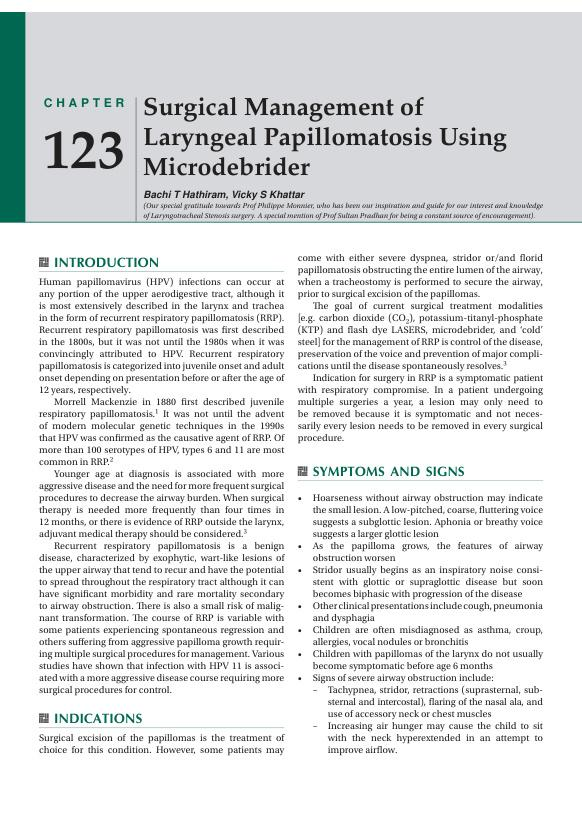chapter-heading: (141, 94, 508, 178)
list: (294, 491, 545, 758)
section-heading: (312, 465, 466, 478), (53, 256, 160, 269), (53, 712, 145, 724)
text: (38, 276, 285, 698), (297, 252, 544, 445), (38, 732, 286, 757)
